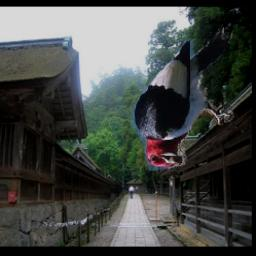Woodpecker: (132, 24, 240, 177)
